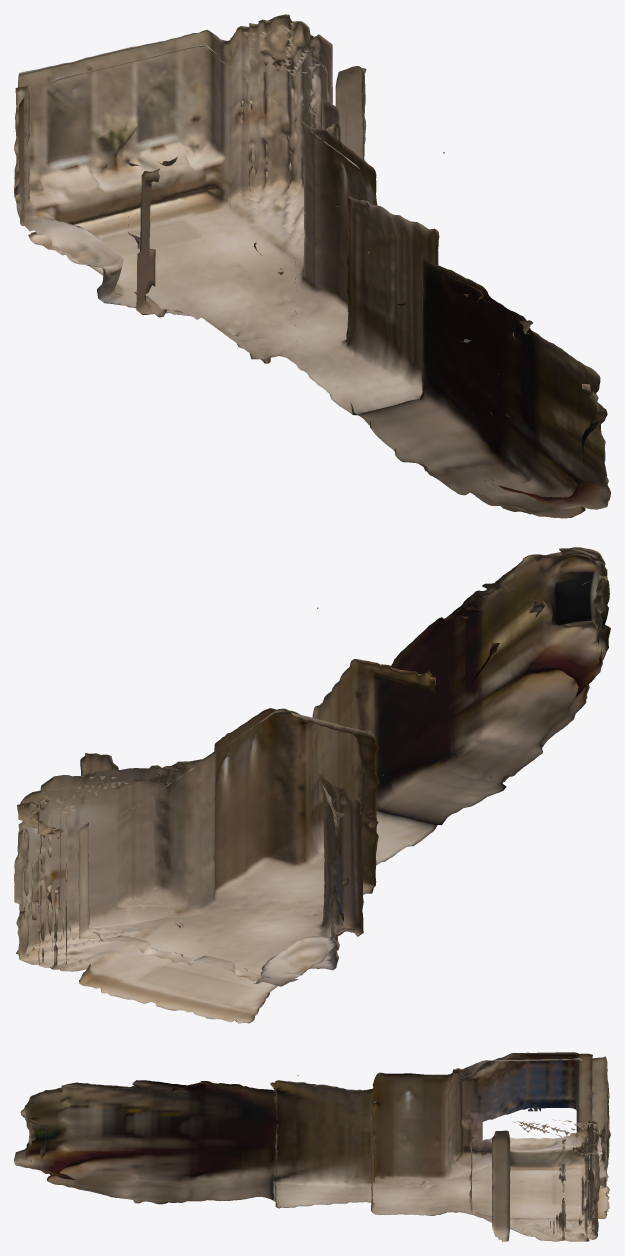
Rendered from Luxury Spa Master Bathroom_collider.glb.
3 views of the same model, one above another, from view 1: azimuth 30°, elevation 25°; view 2: azimuth 150°, elevation 25°; view 3: azimuth 270°, elevation 25° (orthographic). The views are drawn at different scales.
Parts seen in each view (by area): view 1: world; view 2: world; view 3: world.
Boxes of the visible parts, left/top/right/bottom form: world: left=14, top=14, right=610, bottom=518; world: left=14, top=547, right=610, bottom=1023; world: left=14, top=1052, right=610, bottom=1241.
Size of the model in its own units: 5.38 by 3.94 by 14.71.
